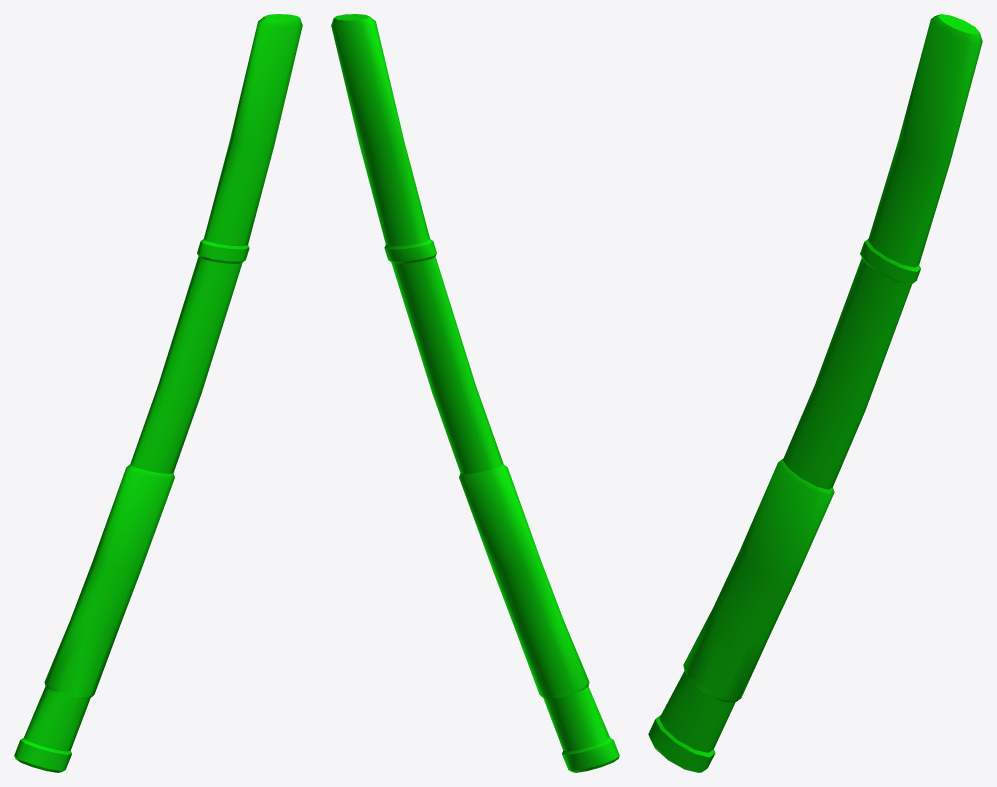
Rendered from SM_ConvKatana_Sheath.FBX.
The picture shows the model from 3 angles, left to right: view 1: azimuth 30°, elevation 25°; view 2: azimuth 150°, elevation 25°; view 3: azimuth 330°, elevation 25°; orthographic projection. The views are drawn at different scales.
Parts seen in each view (by area): view 1: SM_ConvKatana_Sheath.001; view 2: SM_ConvKatana_Sheath.001; view 3: SM_ConvKatana_Sheath.001.
Part boxes in pixels (x1,y1,x2,y2): SM_ConvKatana_Sheath.001: (14, 14, 302, 772); SM_ConvKatana_Sheath.001: (331, 14, 619, 772); SM_ConvKatana_Sheath.001: (648, 14, 982, 772).
Size of the model in its own units: 21.22 by 50.1 by 2.18.
